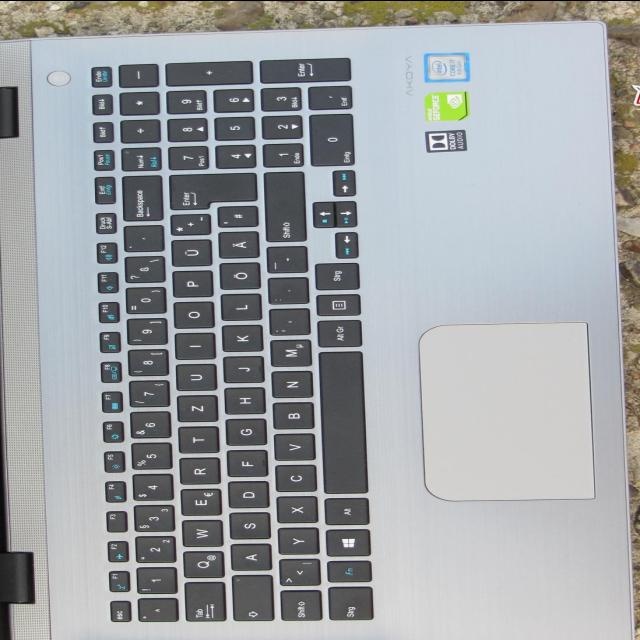0: (122, 288, 164, 316)
1: (133, 568, 175, 595)
2: (132, 537, 174, 564)
3: (131, 505, 173, 533)
4: (129, 476, 171, 502)
5: (128, 444, 169, 472)
6: (127, 412, 169, 440)
7: (125, 382, 167, 408)
8: (125, 350, 167, 377)
9: (123, 319, 165, 346)
a: (226, 544, 269, 572)
accent: (120, 227, 162, 254)
ae: (214, 232, 256, 260)
alt-left: (322, 499, 368, 527)
altgr-right: (314, 321, 360, 349)
b: (269, 402, 311, 431)
c: (271, 465, 315, 493)
caret: (134, 599, 176, 623)
comma: (266, 309, 308, 337)
d: (225, 482, 267, 510)
del: (119, 177, 161, 223)
e: (176, 490, 219, 518)
enter: (165, 174, 255, 212)
f: (223, 451, 265, 478)
g: (222, 419, 264, 447)
h: (221, 388, 263, 416)
hash: (214, 207, 256, 229)
i: (170, 334, 212, 361)
j: (219, 357, 261, 385)
k: (219, 325, 261, 353)
keyboard: (70, 55, 380, 630)
l: (217, 294, 259, 322)
less: (275, 559, 318, 587)
m: (266, 341, 309, 369)
minus: (263, 247, 305, 275)
n: (268, 372, 311, 400)
o: (170, 302, 212, 330)
oe: (216, 263, 258, 291)
p: (169, 271, 211, 299)
plus: (167, 215, 209, 237)
point: (265, 279, 306, 306)
q: (179, 552, 221, 580)
r: (176, 458, 218, 486)
s: (226, 513, 268, 541)
shift-left: (276, 591, 320, 623)
shift-lock: (228, 575, 271, 623)
shift-right: (261, 173, 305, 243)
space: (317, 353, 364, 495)
ss: (122, 257, 163, 285)
strg-left: (325, 588, 371, 624)
strg-right: (312, 264, 358, 292)
t: (174, 428, 216, 455)
tab: (180, 583, 223, 623)
u: (172, 364, 214, 392)
ue: (168, 240, 210, 268)
v: (270, 434, 312, 462)
w: (178, 521, 221, 549)
x: (273, 497, 315, 525)
y: (274, 528, 316, 556)
z: (173, 396, 215, 424)
